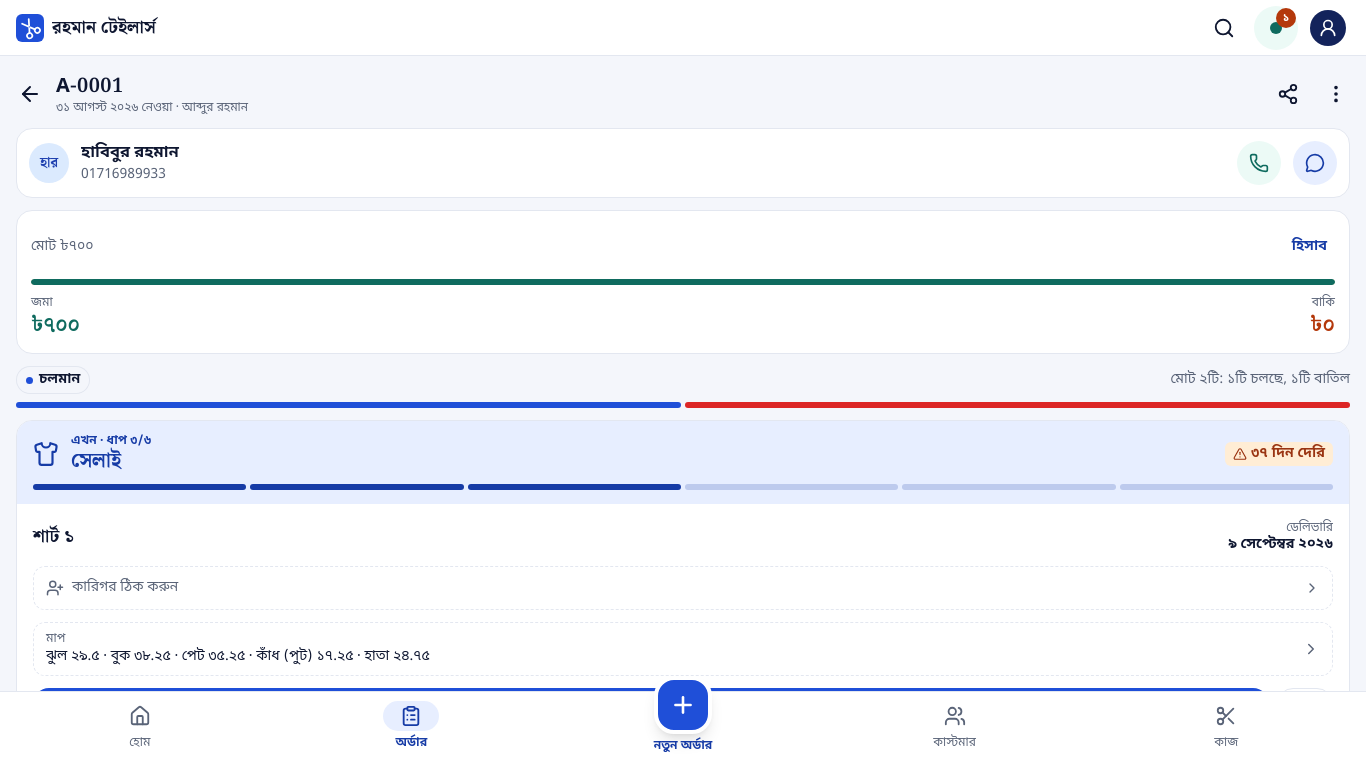
Test: Order detail on a phone › opens the accounts sheet with history, refund, discount and price adjustment
The width and height of the screenshot is (1366, 768).
Expected: the heading "A-0001" is shown, [56, 70, 124, 102]
Step 1. Click the button "হিসাব" → (1309, 247), box [1284, 225, 1335, 269]
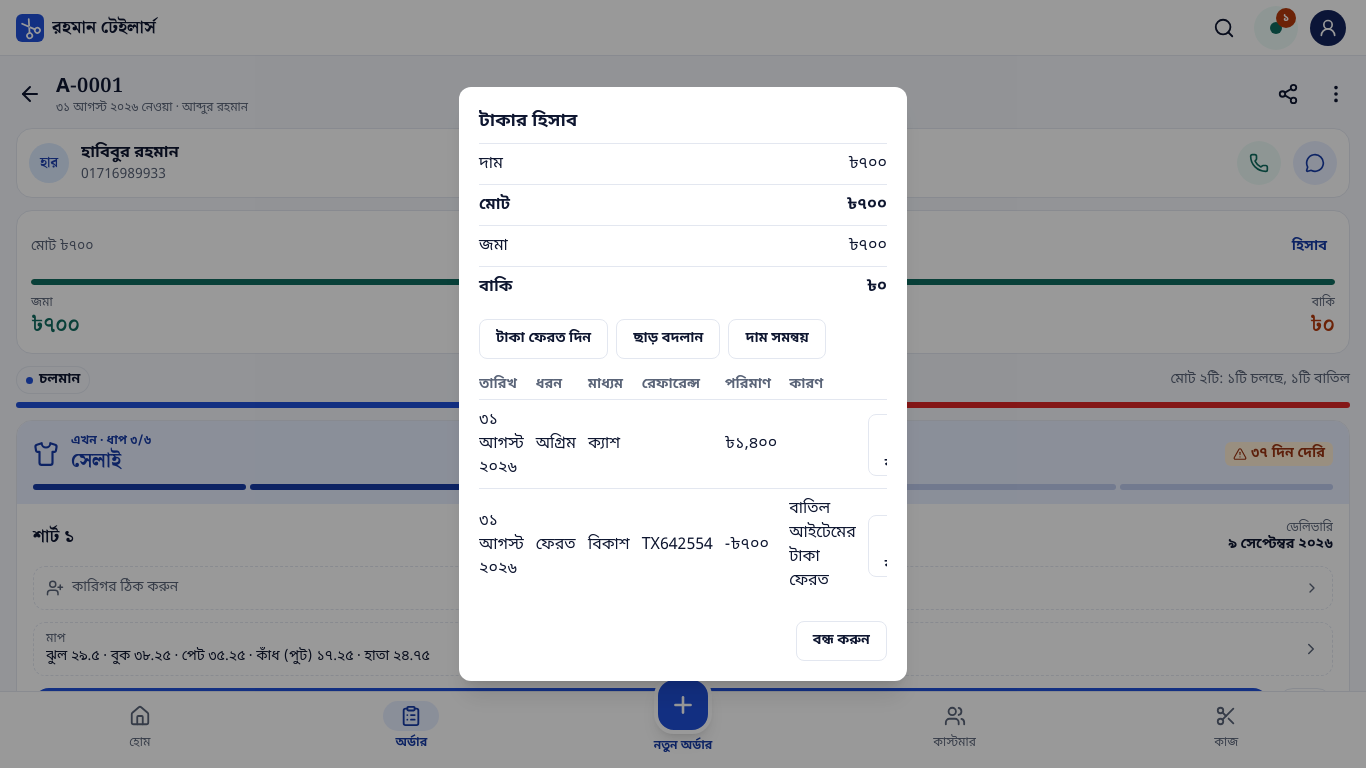
Now the table named "পেমেন্ট" is shown, box [479, 371, 887, 601]
Now the button "ছাড় বদলান" is shown
Now the button "দাম সমন্বয়" is shown, box [728, 319, 826, 359]
Step 2. Click the button "ছাড় বদলান" → (668, 339), box [616, 319, 720, 359]
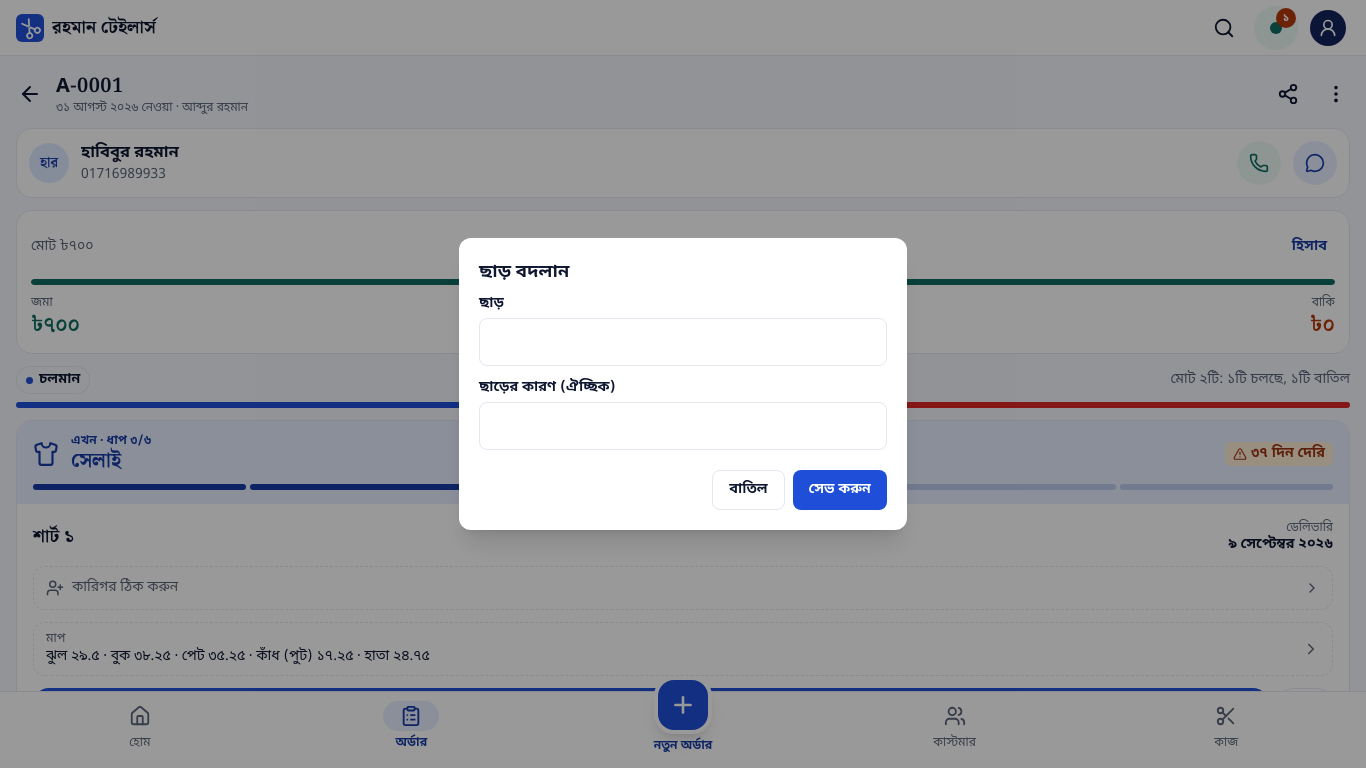
Now the dialog "ছাড় বদলান" is shown, box [459, 238, 907, 530]
Now the heading "টাকার হিসাব" is gone
